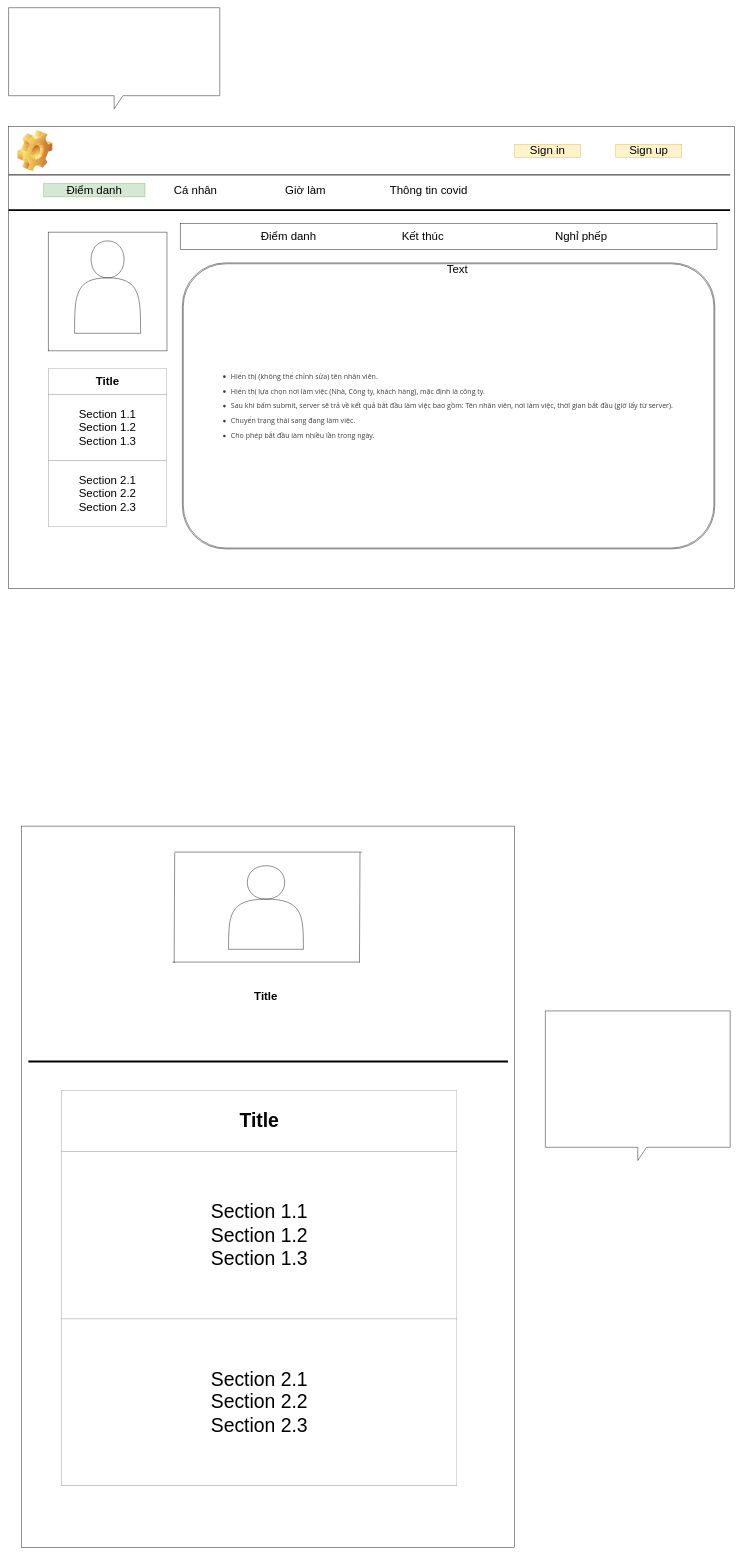
This 742x1555 diagram has some shape labels left out. The shapes that lost their labels are listed below. From the top down, each one's centre as x and y in pixels, then its label:
At [114,58]: "Responsive for desktop and tablet".
At [637,1085]: "Responsive for mobile".
